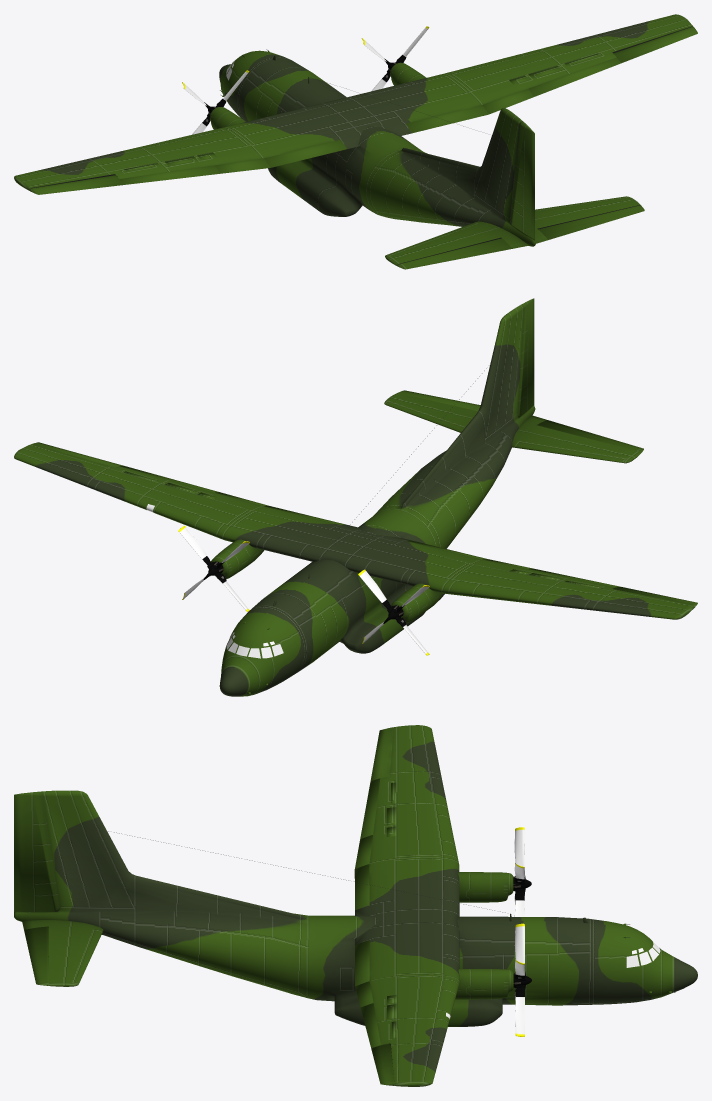
3 renders of one model, top to bottom at view 1: azimuth 30°, elevation 25°; view 2: azimuth 150°, elevation 25°; view 3: azimuth 270°, elevation 25°, orthographic. The views are drawn at different scales.
Visible parts, largest first — view 1: fuselage, ailes, ailes2, direction, profondeur, moteurs, aileronD, voletG1, voletD1, aileronG, voletD3, voletG3 (+3 smaller); view 2: fuselage, ailes, ailes2, moteurs, direction, profondeur, vitres; view 3: fuselage, ailes, direction, moteurs, ailes2, profondeur, aileronG, aileronD, voletG3, voletG1, voletD1.
Boxes of the visible parts, x1,y1,x2,y2 form: fuselage: [219, 50, 535, 246]; ailes: [14, 14, 693, 190]; ailes2: [385, 196, 640, 265]; direction: [510, 121, 534, 239]; profondeur: [397, 205, 644, 269]; moteurs: [209, 62, 426, 129]; aileronD: [613, 27, 697, 63]; voletG1: [264, 139, 346, 167]; voletD1: [406, 105, 488, 133]; aileronG: [29, 175, 123, 194]; voletD3: [528, 57, 620, 96]; voletG3: [119, 165, 220, 184]; fuselage: [219, 304, 535, 696]; ailes: [14, 444, 694, 619]; ailes2: [384, 393, 640, 463]; moteurs: [211, 539, 444, 623]; direction: [517, 298, 534, 417]; profondeur: [398, 390, 643, 452]; vitres: [146, 504, 283, 658]; fuselage: [14, 790, 697, 1026]; ailes: [355, 725, 459, 1086]; direction: [14, 791, 59, 911]; moteurs: [455, 872, 513, 999]; ailes2: [22, 920, 103, 986]; profondeur: [24, 926, 48, 985]; aileronG: [370, 727, 393, 780]; aileronD: [371, 1044, 394, 1085]; voletG3: [360, 778, 380, 838]; voletG1: [354, 864, 369, 909]; voletD1: [355, 940, 369, 986].
Bounding box in the file's own units: 40.12 × 11.06 × 32.32.
4 materials, 3 textured.
